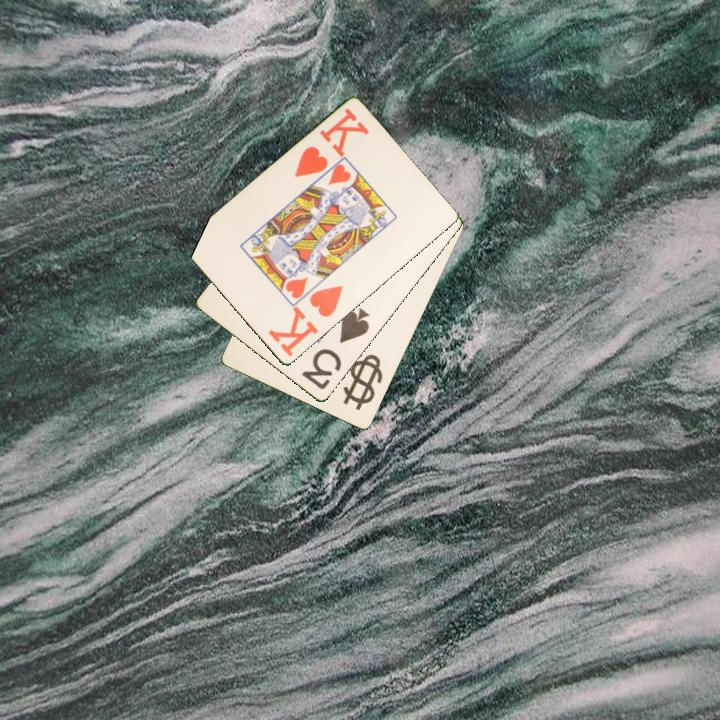3s: (298, 304, 373, 393)
JK: (348, 355, 380, 403)
Kh: (264, 282, 346, 360), (291, 105, 372, 181)
